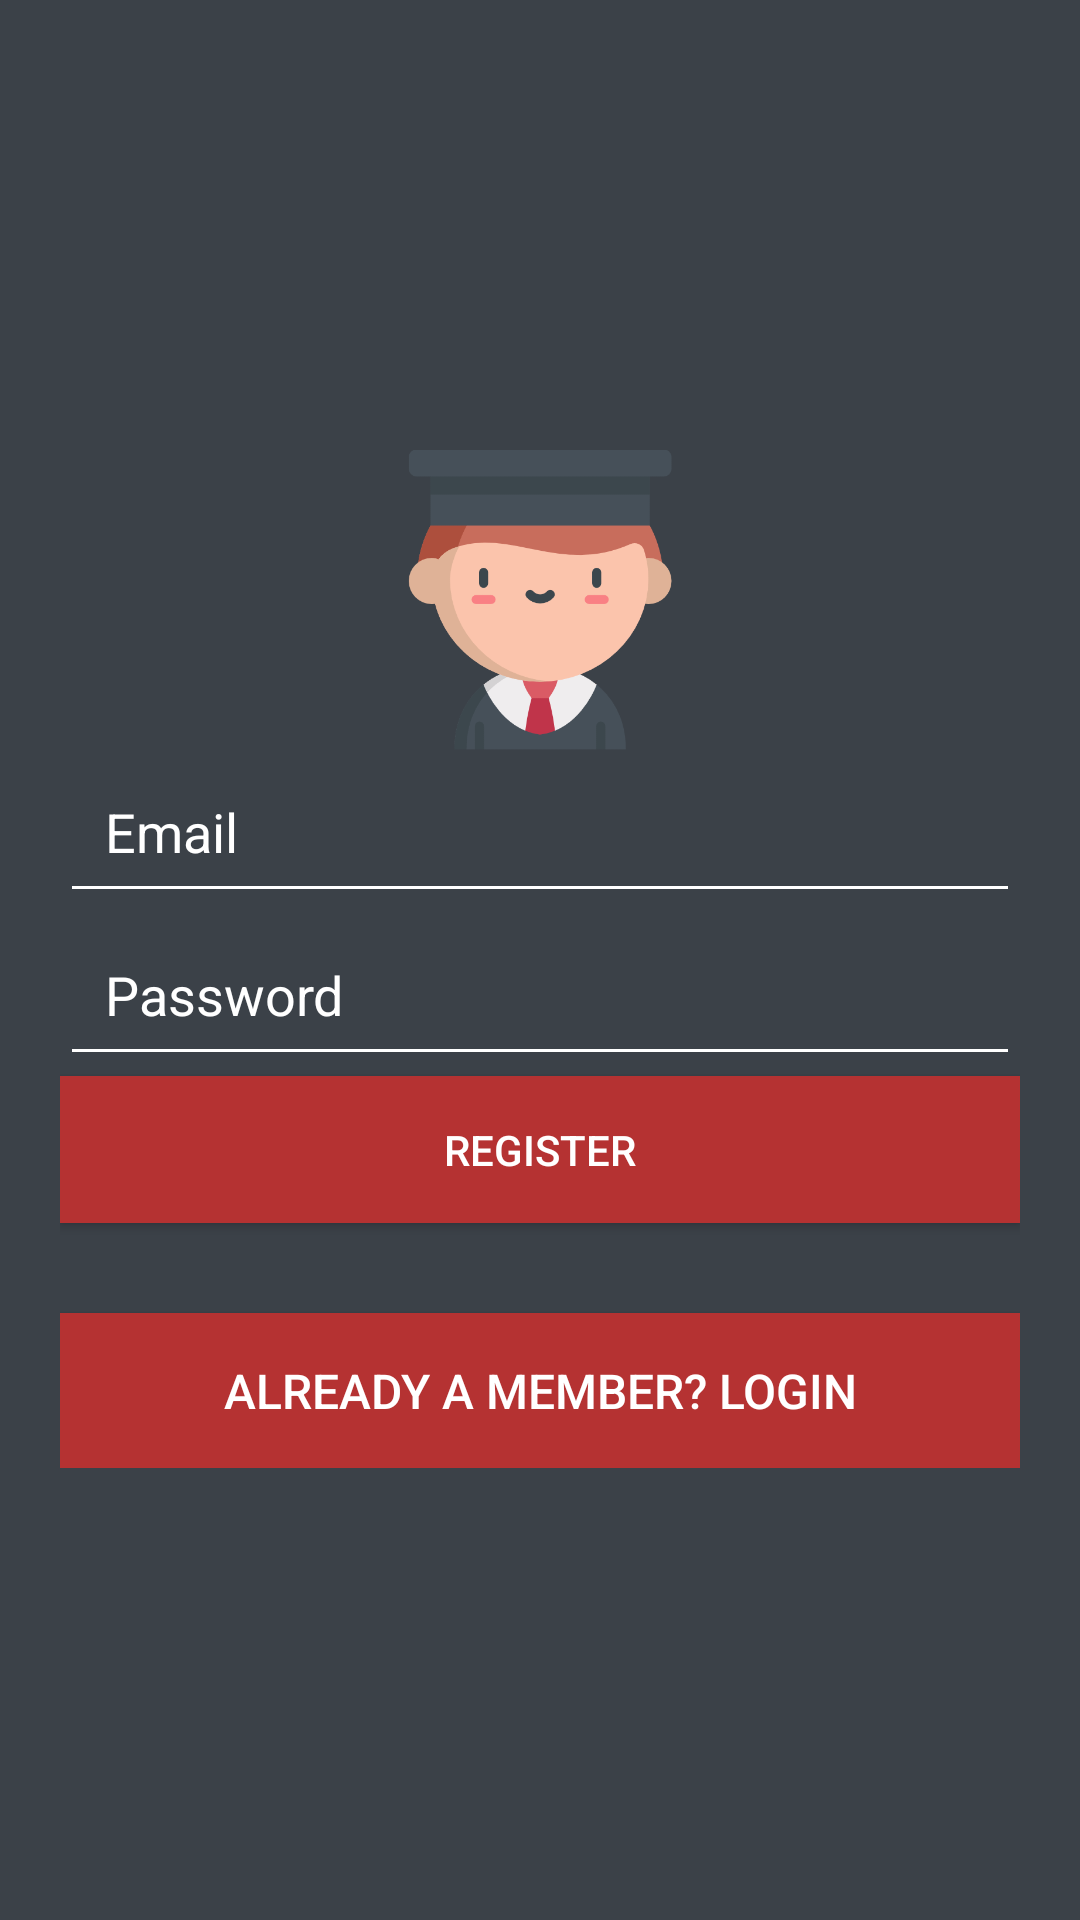

Locate icon controls on the screen. Image size 1080px×1920px, boxes as (x1, y1, x2, y2).
student login: (409, 525, 672, 735)
